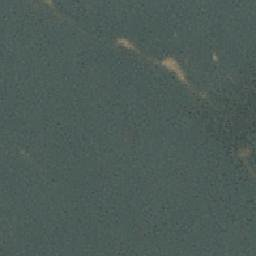debris: (161, 53, 184, 82), (114, 36, 138, 52)
